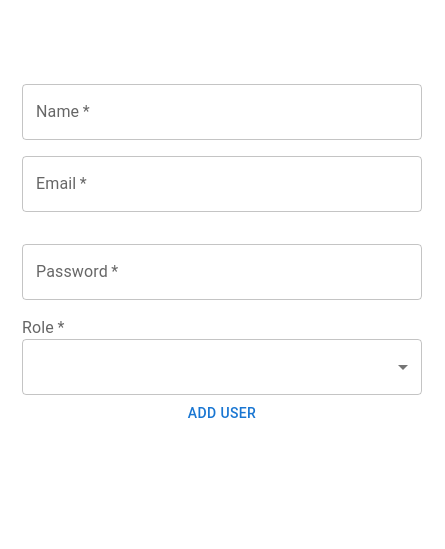
Test: AddUserFormLeicht › shows error for invalid password
In the field labelled "Name *": point(222, 112) top-left (22, 84), bottom-right (422, 140), type "John Doe"
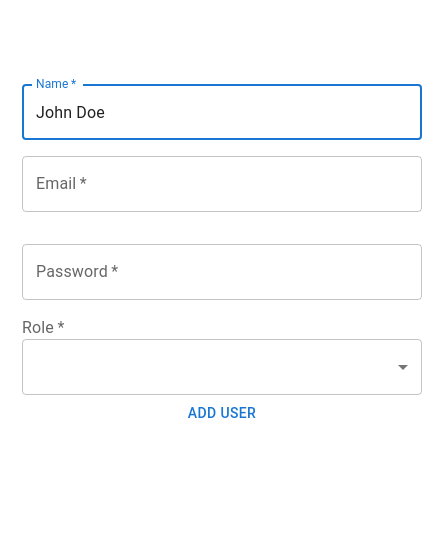
In the field labelled "Email *": point(222, 184) top-left (22, 156), bottom-right (422, 212), type "john@example.com"
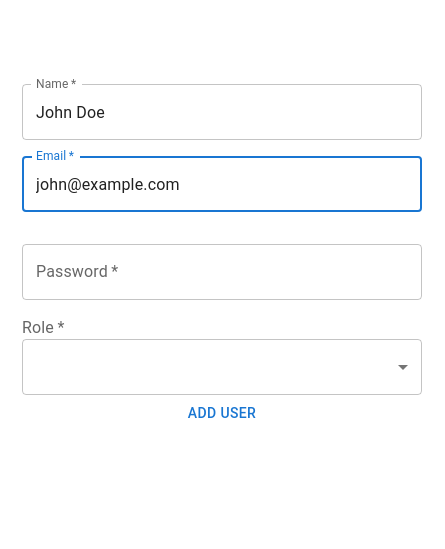
In the field labelled "Password *": point(222, 272) top-left (22, 244), bottom-right (422, 300), type "weak"
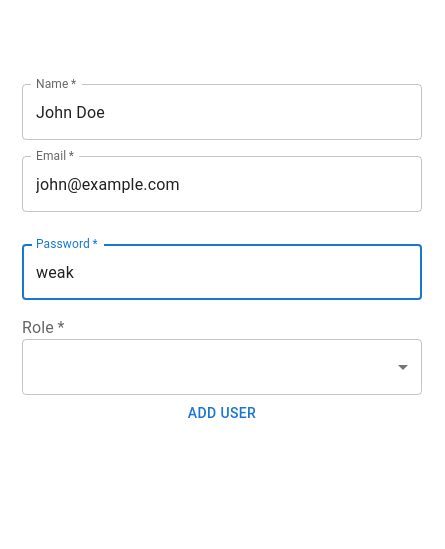
Click the dropdown named "role": point(222, 367) top-left (22, 339), bottom-right (422, 395)
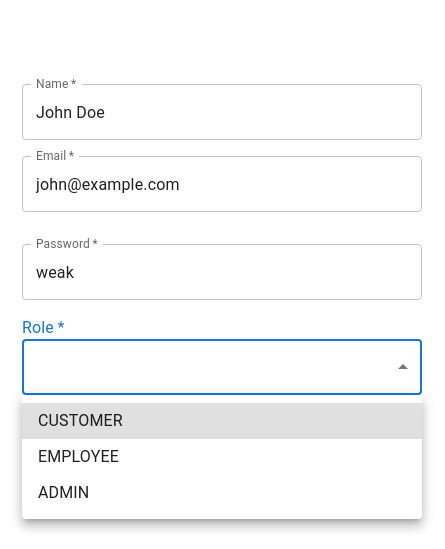
Click the option "CUSTOMER": point(80, 420) top-left (22, 403), bottom-right (422, 439)
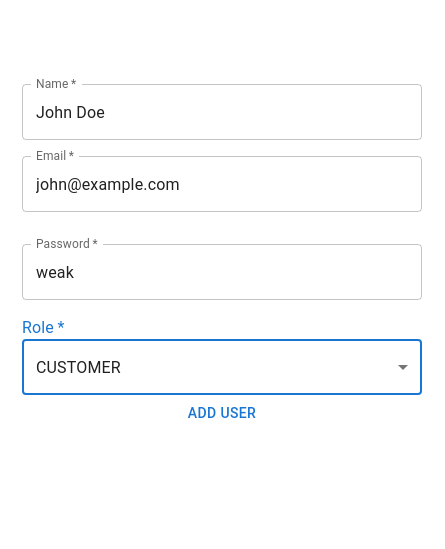
Submit the form from the button "Add User", box top-left (22, 395), bottom-right (422, 432)
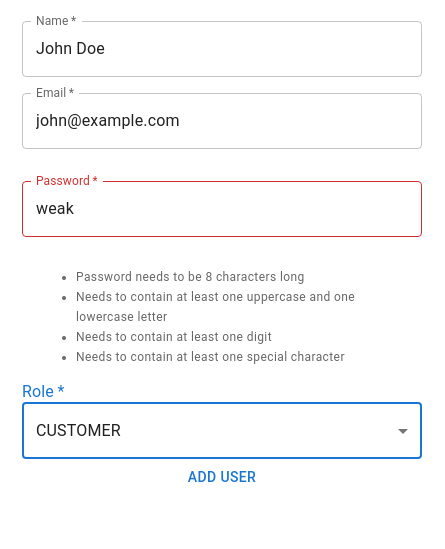
Check: the list item "Password needs to be 8 characters long" is shown, box top-left (76, 270), bottom-right (305, 284)
